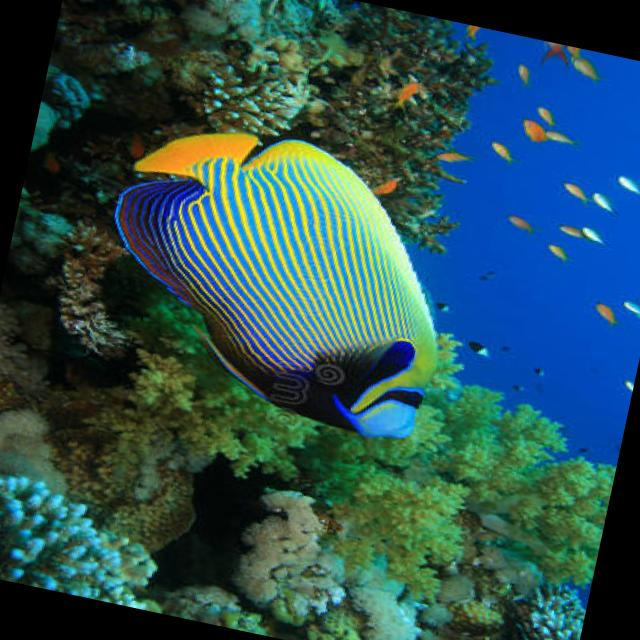AngelFish: (79, 110, 467, 448)
